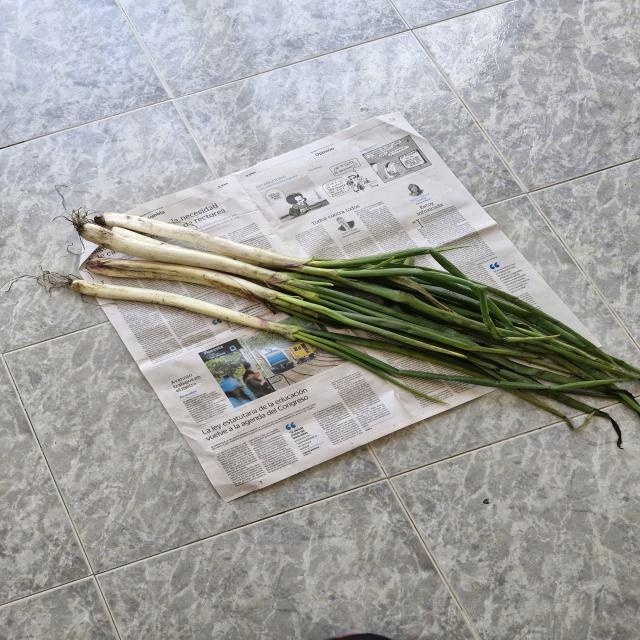green_onion: (70, 208, 590, 349), (39, 272, 473, 387)
